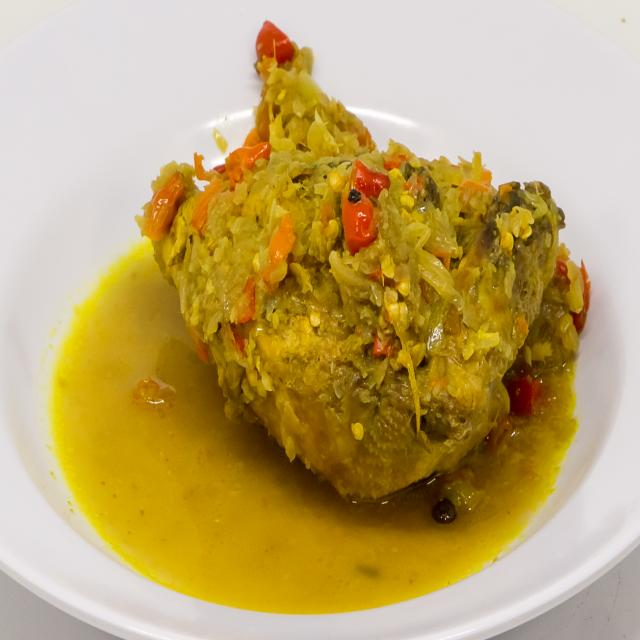Ayam-Betutu: (132, 7, 590, 509)
